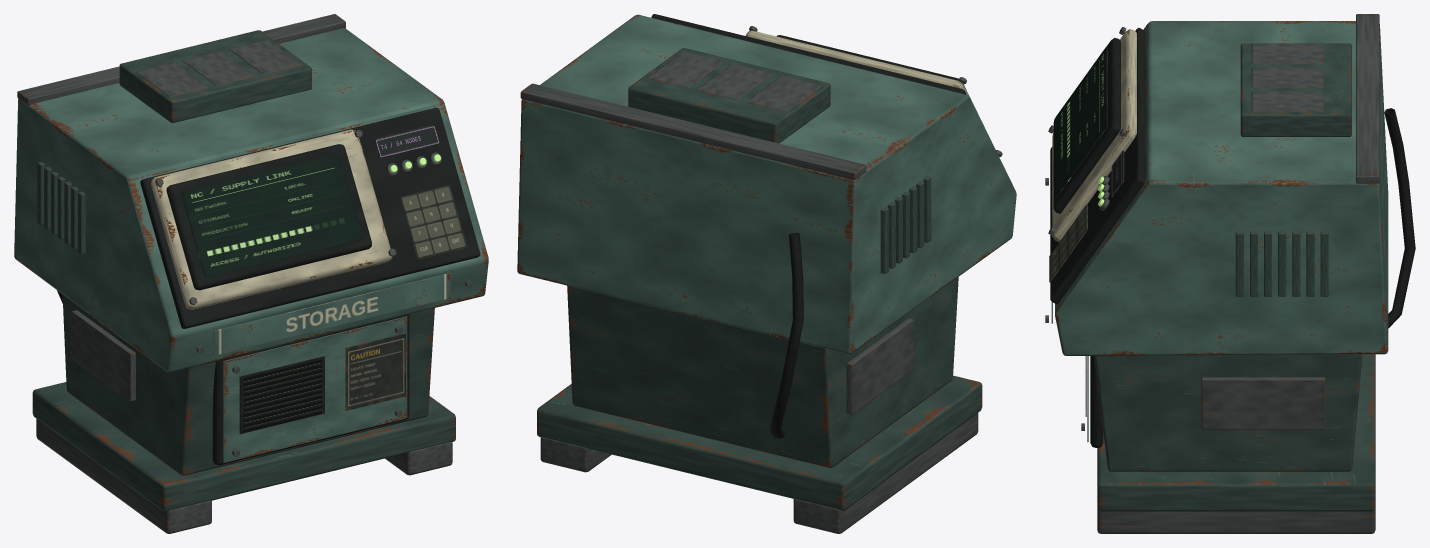
File: NC_Storage_T4.fbx
3 renders of one model, left to right at view 1: azimuth 30°, elevation 25°; view 2: azimuth 150°, elevation 25°; view 3: azimuth 270°, elevation 25°, orthographic. The views are drawn at different scales.
Parts seen in each view (by area): view 1: NC_Storage_T4_LOD0; view 2: NC_Storage_T4_LOD0; view 3: NC_Storage_T4_LOD0.
Boxes of the visible parts, x1,y1,x2,y2 form: NC_Storage_T4_LOD0: (14,14,488,533); NC_Storage_T4_LOD0: (517,14,1016,533); NC_Storage_T4_LOD0: (1045,14,1415,533).
Size of what is drawn, in the model's own units: 0.925 by 0.992 by 0.8654.
Materials: 1 (1 with a texture image).
